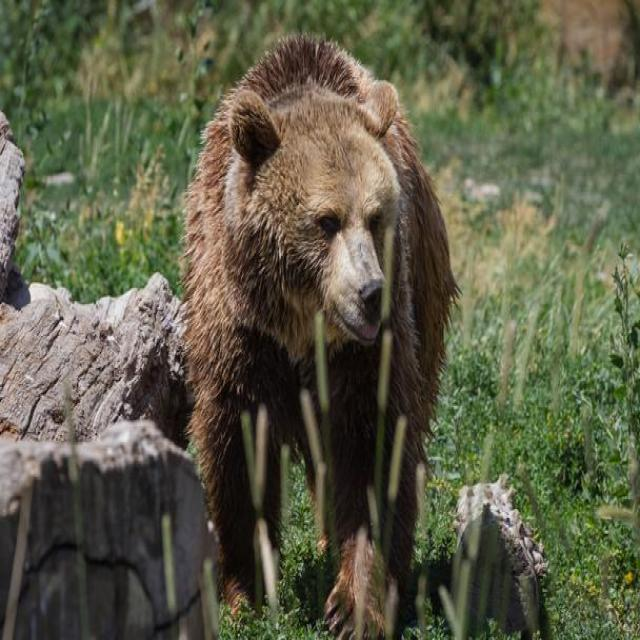Bear: (184, 35, 461, 640)
